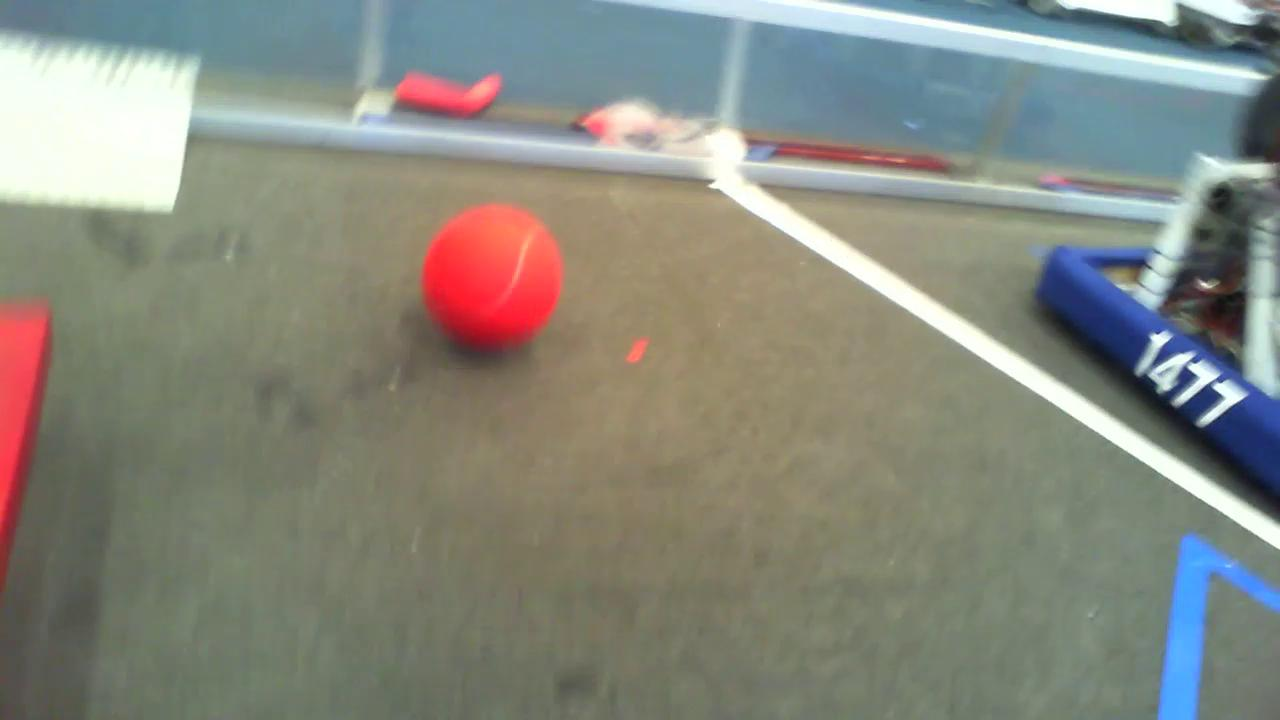Red_Ball: (399, 202, 585, 357)
